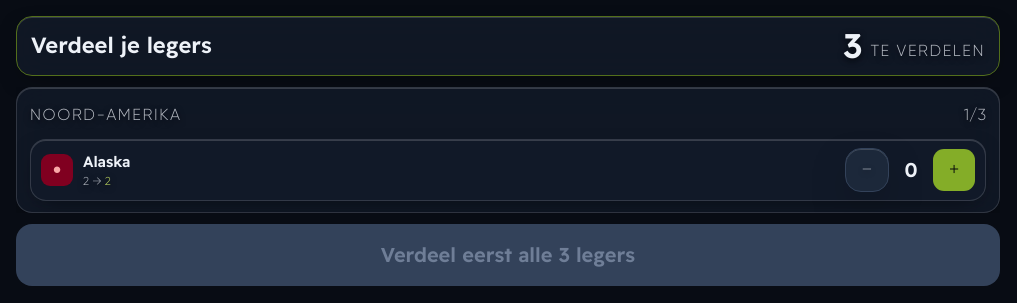
Test: PlaceReinforcementStep › staged legers verlagen de resterende pool lokaal en verschijnen als delta, zonder de server aan te roepen
The width and height of the screenshot is (1017, 303).
Click the button named "Leger plaatsen op" at x=954, y=170, box [933,149,975,191]
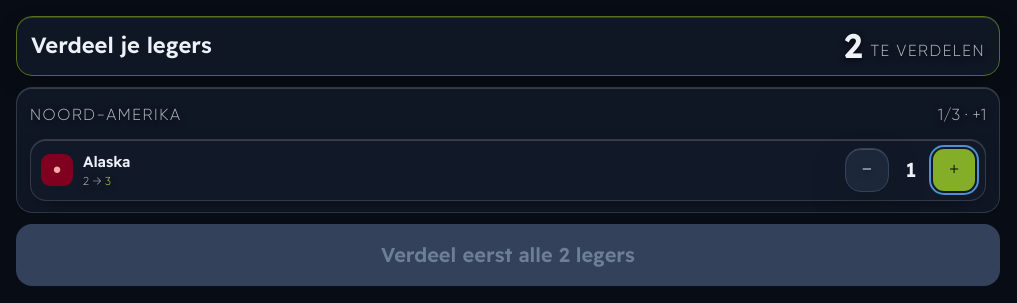
Now the text "2" is shown, box [844,29,862,63]
